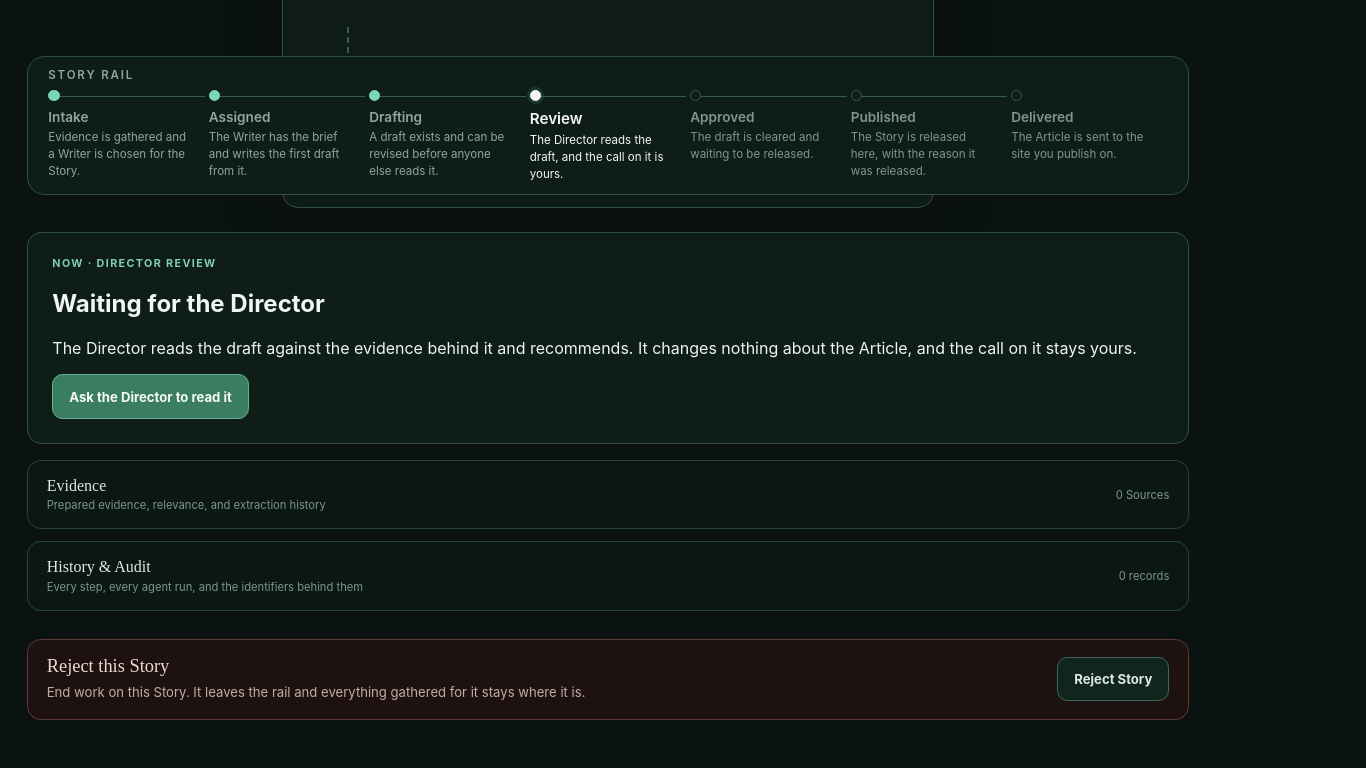
Test: Director review workspace › uses the shared pending surface for Director review
(page scrolled)
Click the button "Ask the Director to read it".
click(150, 397)  # box [52,374,249,419]
(page scrolled)
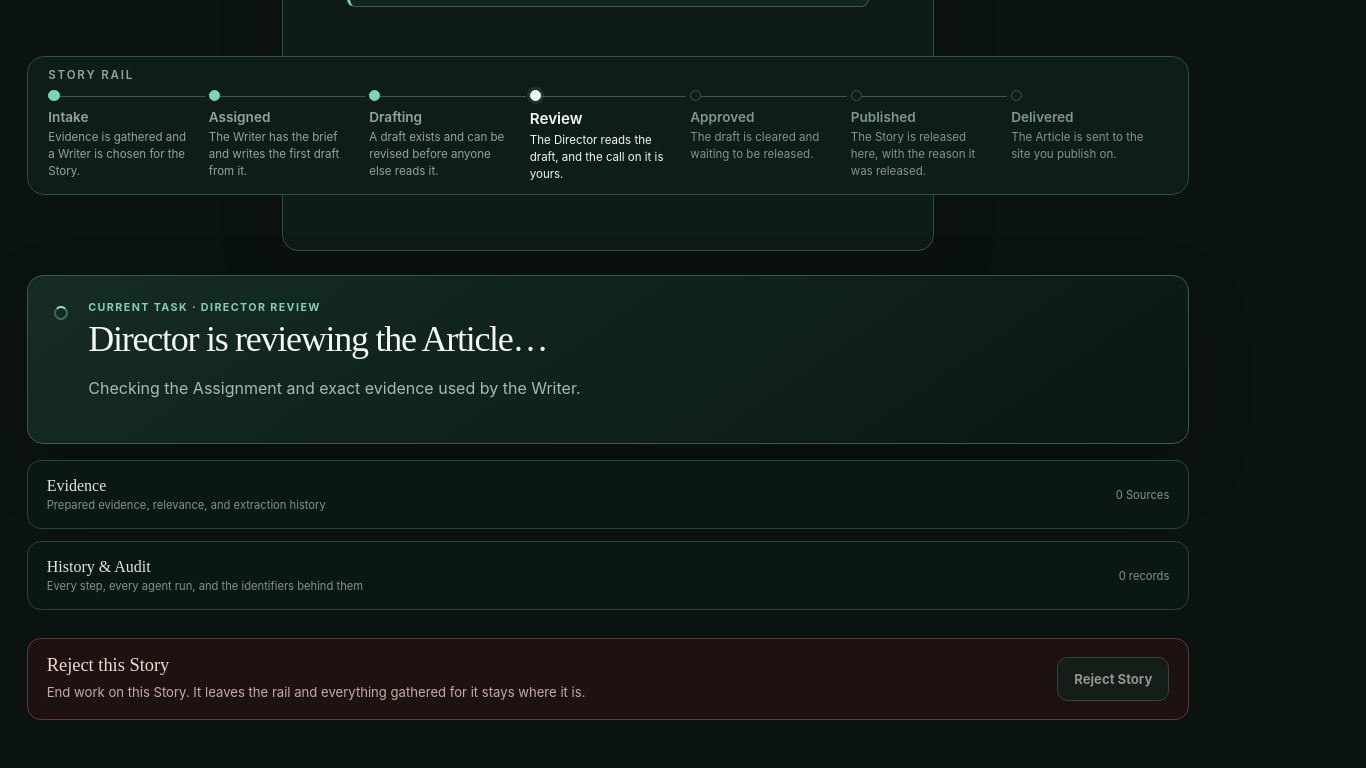
expect the button "Ask the Director to read it" is gone: met
expect the button "Reject Story" is disabled: met, box [1057,657,1169,701]
